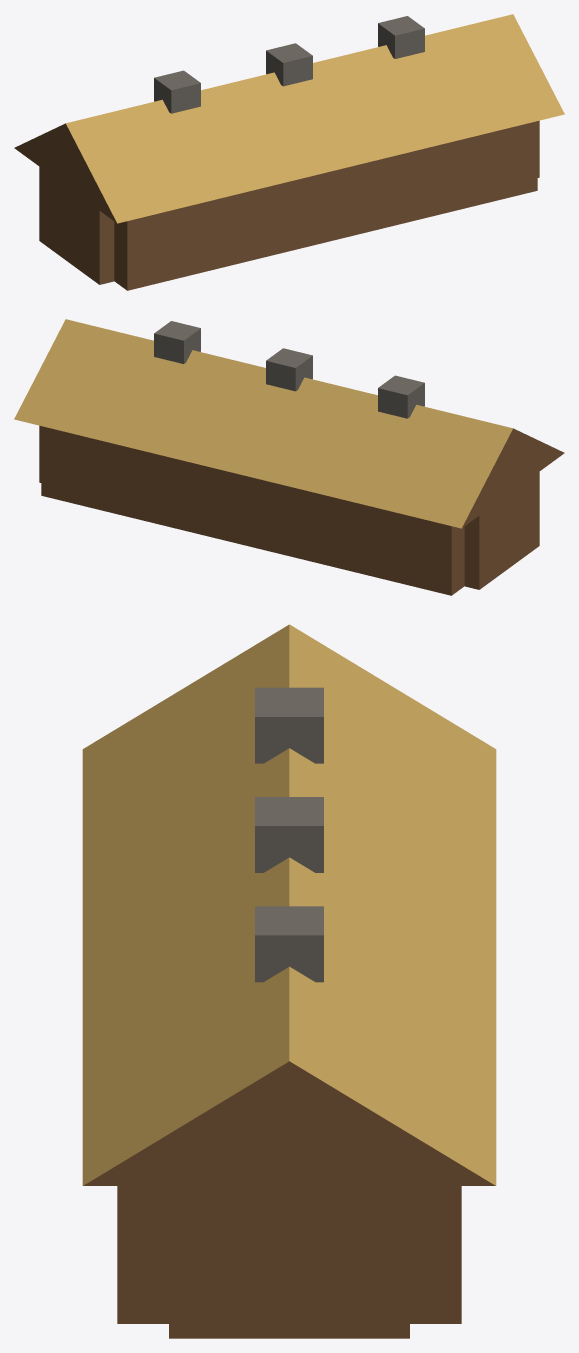
Rendered from longhouse.glb.
The picture shows the model from 3 angles, top to bottom: view 1: azimuth 30°, elevation 25°; view 2: azimuth 150°, elevation 25°; view 3: azimuth 270°, elevation 25°; orthographic projection. The views are drawn at different scales.
Parts seen in each view (by area): view 1: longhouse; view 2: longhouse; view 3: longhouse.
Part boxes in pixels (box(x1,y1,x2,y2)): longhouse: box(14, 14, 564, 290); longhouse: box(14, 319, 564, 595); longhouse: box(82, 624, 496, 1338).
Bounding box in the file's own units: 1.2 × 0.4 × 0.48.
